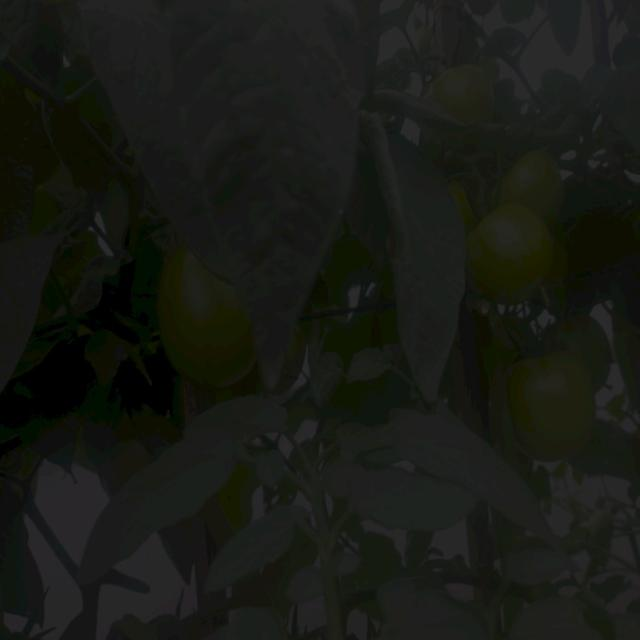tomato: (159, 253, 255, 384), (507, 350, 594, 459), (467, 203, 558, 304), (430, 57, 501, 111), (503, 145, 558, 205)
